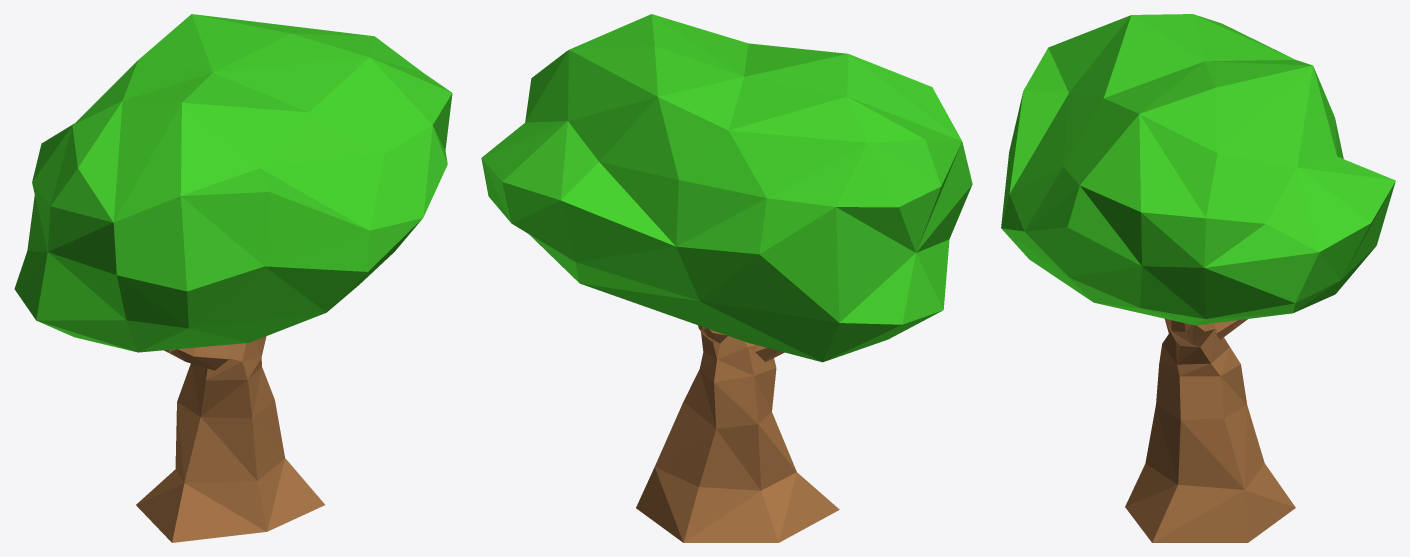
The model's file is tree3.fbx.
3 renders of one model, left to right at view 1: azimuth 30°, elevation 25°; view 2: azimuth 150°, elevation 25°; view 3: azimuth 270°, elevation 25°, orthographic.
Visible parts, largest first — view 1: tree2.001; view 2: tree2.001; view 3: tree2.001.
Boxes of the visible parts, bbox=[...] form: tree2.001: bbox=[14, 14, 452, 542]; tree2.001: bbox=[481, 14, 972, 542]; tree2.001: bbox=[1001, 14, 1395, 542].
Size of the model in its own units: 3.94 by 4.18 by 3.3.
